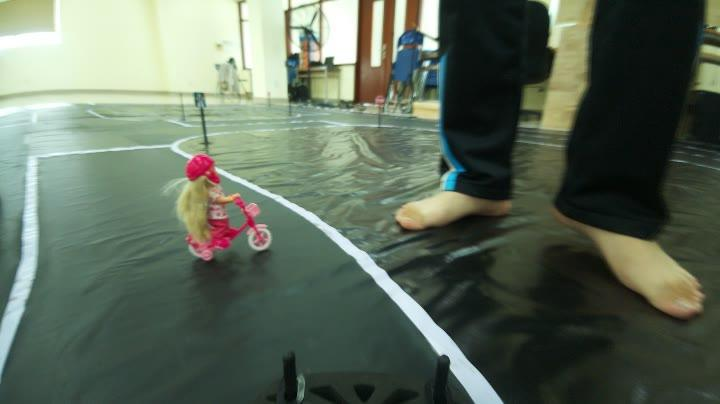pedestrian: (161, 159, 276, 262)
